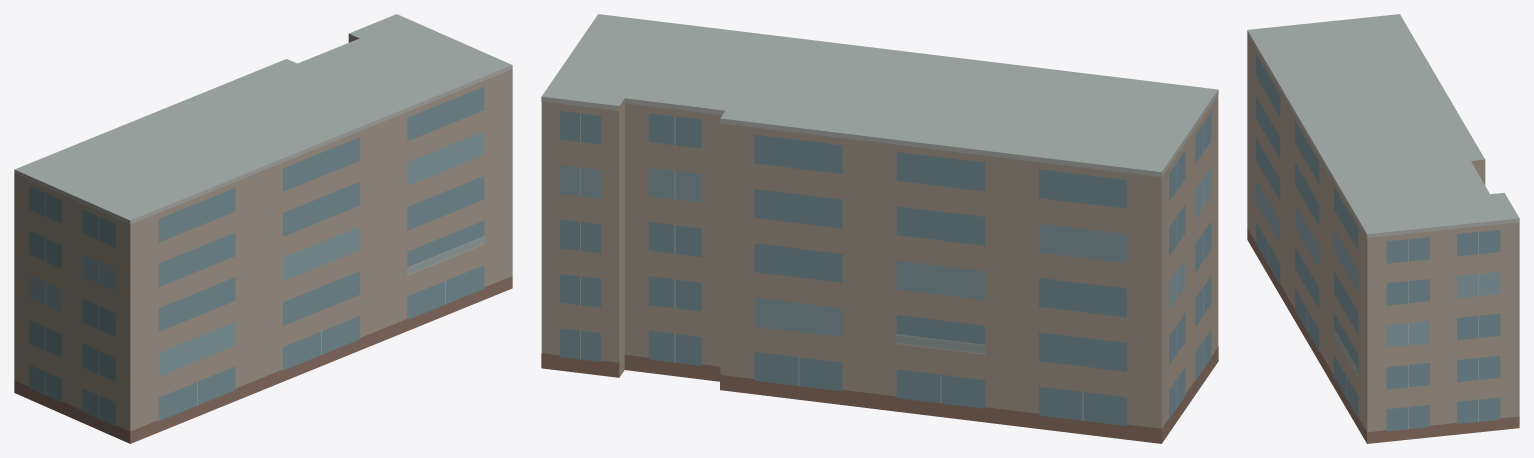
Rendered from survey-upis-32907164.glb.
3 views of the same model, side by side, from view 1: azimuth 30°, elevation 25°; view 2: azimuth 150°, elevation 25°; view 3: azimuth 270°, elevation 25° (orthographic). The views are drawn at different scales.
Parts seen in each view (by area): view 1: survey-upis-32907164.tmp; view 2: survey-upis-32907164.tmp; view 3: survey-upis-32907164.tmp.
Part boxes in pixels (bbox=[...]): survey-upis-32907164.tmp: bbox=[14, 14, 512, 443]; survey-upis-32907164.tmp: bbox=[541, 14, 1218, 443]; survey-upis-32907164.tmp: bbox=[1247, 14, 1519, 443].
Bounding box in the file's own units: 29.96 × 13.3 × 15.67.
